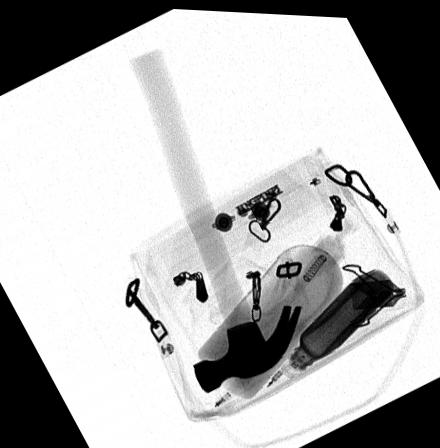Hammer: (126, 43, 304, 391)
